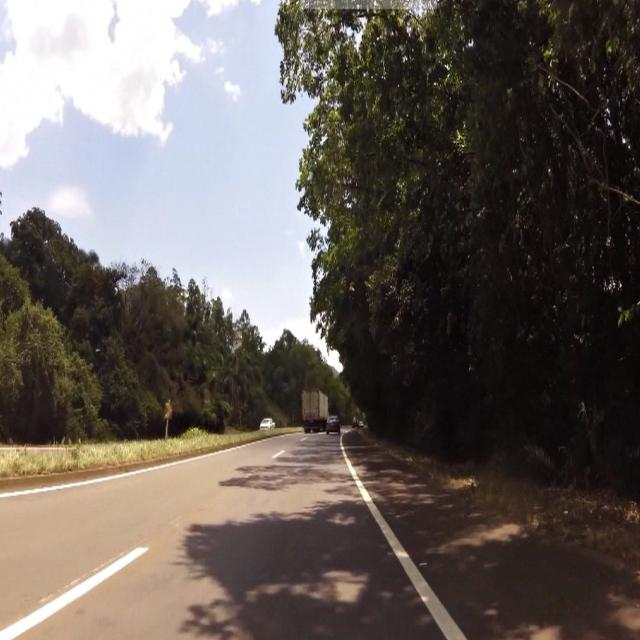Del: (164, 399, 174, 422)
